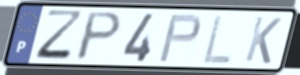4: (121, 10, 156, 65)
K: (242, 14, 284, 66)
L: (200, 12, 234, 65)
P: (72, 10, 125, 63), (156, 12, 203, 64)
Z: (33, 8, 87, 63)
